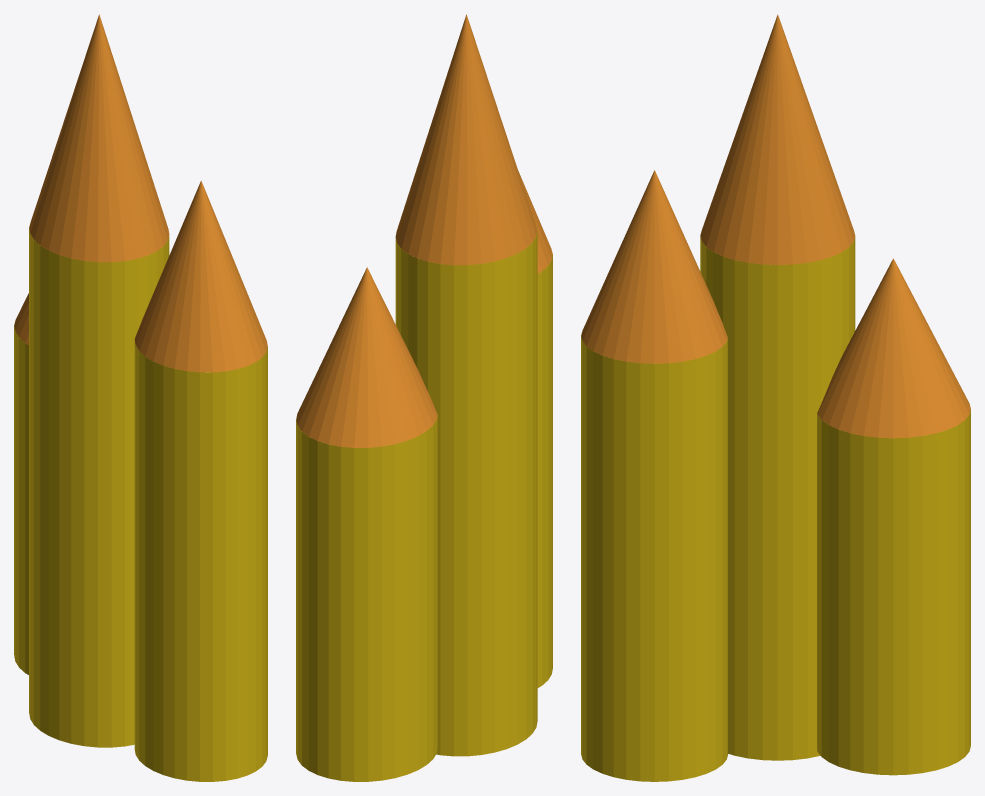
Rendered from Ammo.fbx.
The picture shows the model from 3 angles, left to right: view 1: azimuth 30°, elevation 25°; view 2: azimuth 150°, elevation 25°; view 3: azimuth 270°, elevation 25°; orthographic projection. The views are drawn at different scales.
Visible parts, largest first — view 1: Cylinder, Cylinder.001, Cone.001, Cone, Cylinder.002, Cone.002; view 2: Cylinder.001, Cylinder.002, Cone.001, Cone.002, Cylinder, Cone; view 3: Cylinder, Cylinder.002, Cylinder.001, Cone.001, Cone, Cone.002.
Boxes of the visible parts, x1,y1,x2,y2 form: Cylinder: (134,340,267,781); Cylinder.001: (29,227,169,747); Cone.001: (29,14,169,262); Cone: (134,180,267,372); Cylinder.002: (14,325,28,674); Cone.002: (14,293,28,344); Cylinder.001: (395,230,537,756); Cylinder.002: (296,414,437,781); Cone.001: (395,14,537,265); Cone.002: (296,267,437,447); Cylinder: (537,254,552,687); Cone: (518,171,552,273); Cylinder: (581,336,727,781); Cylinder.002: (817,409,970,775); Cylinder.001: (700,236,855,760); Cone.001: (700,14,855,264); Cone: (581,170,727,363); Cone.002: (817,258,970,438).
Bounding box in the file's own units: 14.84 × 62.55 × 30.73.
